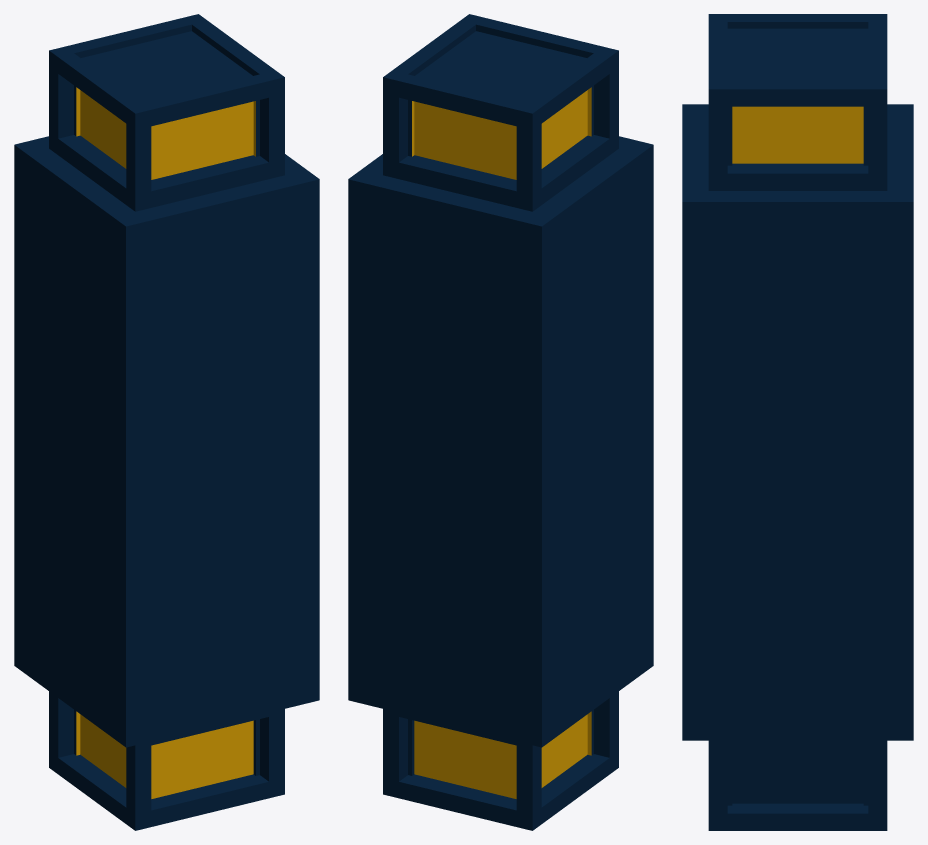
File: physics_c.fbx
The picture shows the model from 3 angles, left to right: view 1: azimuth 30°, elevation 25°; view 2: azimuth 150°, elevation 25°; view 3: azimuth 270°, elevation 25°; orthographic projection. The views are drawn at different scales.
Parts seen in each view (by area): view 1: physics_cube_c; view 2: physics_cube_c; view 3: physics_cube_c.
Part boxes in pixels (box(x1,y1,x2,y2)): physics_cube_c: box(14, 14, 319, 830); physics_cube_c: box(348, 14, 653, 830); physics_cube_c: box(682, 14, 913, 830).
Size of the model in its own units: 18.92 by 66.94 by 18.92.
